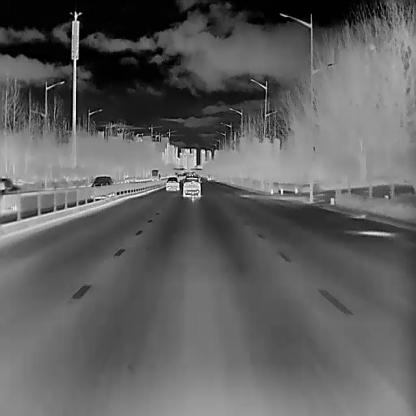bus: (150, 168, 160, 180)
car: (89, 176, 113, 198), (182, 174, 202, 197), (166, 176, 178, 190)
